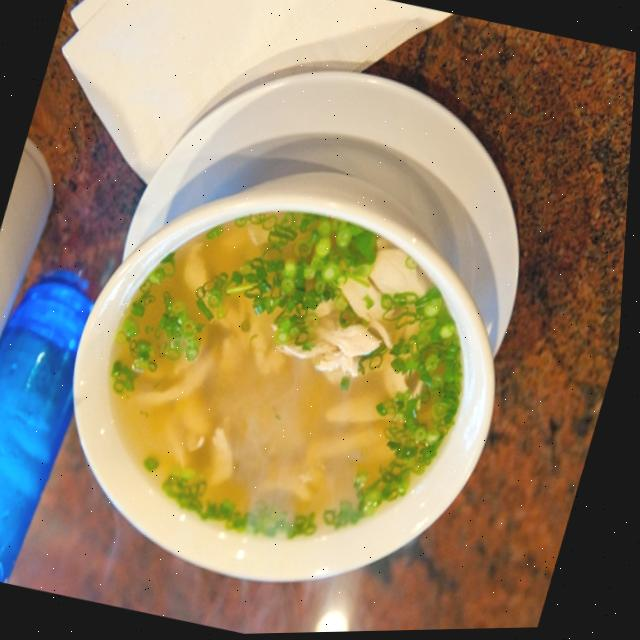汤锅炖物: (8, 40, 597, 639)
